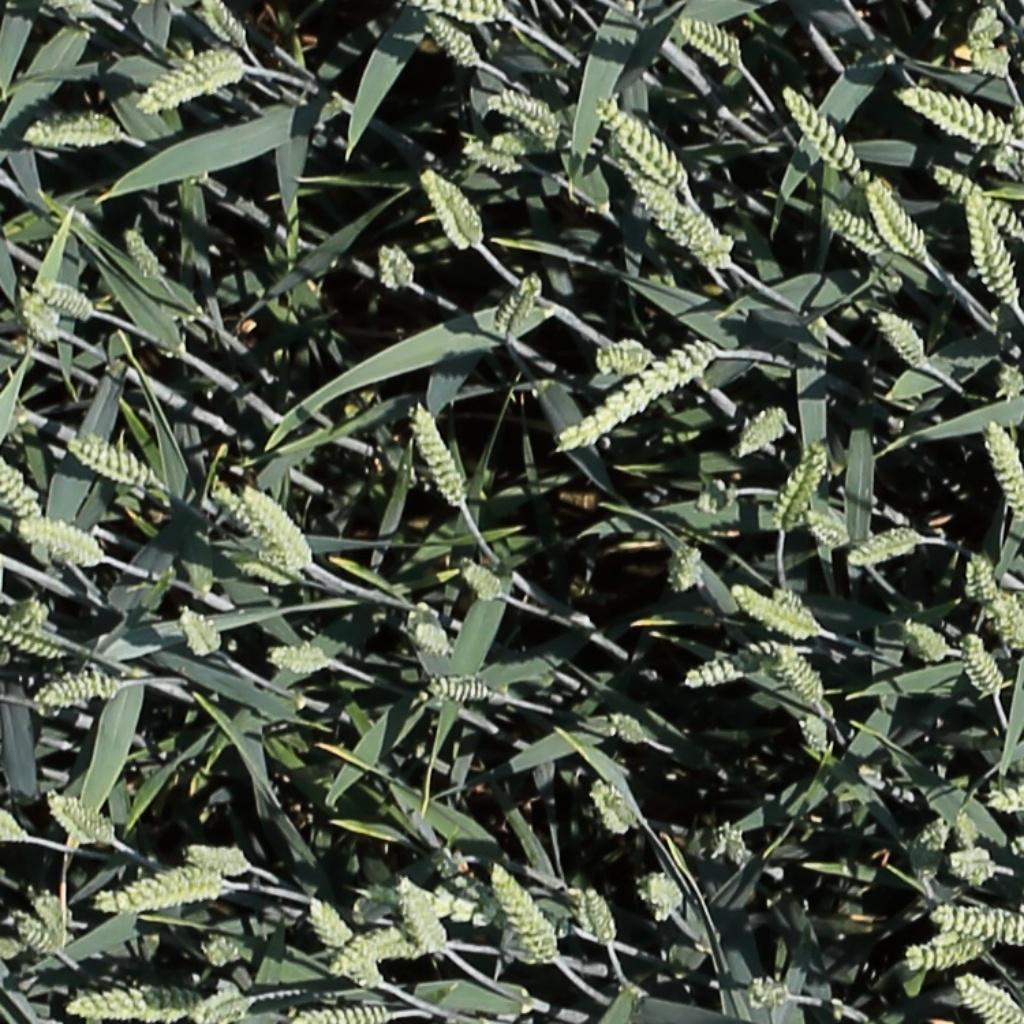0-0: (559, 340, 734, 466), (633, 183, 756, 279), (779, 81, 882, 189), (595, 94, 692, 189), (891, 77, 1016, 150), (488, 860, 562, 965), (95, 856, 231, 913), (408, 398, 472, 512), (931, 162, 1024, 238), (419, 163, 494, 257), (139, 50, 241, 118), (241, 480, 316, 570), (64, 971, 189, 1024), (210, 481, 288, 563), (669, 634, 775, 693), (864, 173, 933, 263), (965, 192, 1017, 309), (775, 432, 832, 536), (19, 514, 109, 573), (22, 109, 120, 160), (39, 782, 115, 847), (66, 435, 157, 487), (731, 585, 820, 638), (394, 872, 450, 955), (983, 415, 1024, 528), (926, 902, 1020, 950), (424, 2, 489, 70), (732, 404, 794, 472), (771, 640, 830, 711), (896, 930, 989, 975), (31, 665, 121, 711), (492, 266, 546, 342), (418, 667, 498, 717), (697, 812, 758, 877), (876, 304, 935, 371), (667, 19, 743, 70), (735, 962, 803, 1018), (324, 932, 401, 980), (958, 629, 1007, 704), (0, 446, 45, 525), (454, 131, 528, 178), (346, 870, 401, 932), (951, 974, 1021, 1022), (680, 463, 742, 517), (588, 779, 640, 842), (405, 0, 514, 30), (938, 837, 1002, 888), (491, 90, 559, 137), (193, 921, 247, 980), (180, 833, 254, 876), (118, 219, 166, 285), (304, 892, 354, 955), (0, 613, 65, 659), (174, 602, 223, 663), (972, 768, 1023, 826), (15, 283, 62, 345), (399, 612, 455, 664), (574, 880, 615, 950), (265, 637, 336, 677), (827, 206, 887, 253), (193, 1, 246, 54), (784, 705, 835, 760), (293, 995, 389, 1024), (958, 2, 1013, 51), (850, 531, 925, 566), (592, 335, 656, 376), (3, 909, 56, 957), (991, 588, 1024, 662), (641, 866, 684, 921), (28, 878, 70, 934), (902, 618, 954, 663), (914, 805, 952, 864), (379, 236, 416, 296), (458, 558, 506, 604), (36, 278, 94, 316), (950, 799, 992, 851), (0, 793, 37, 851), (983, 349, 1022, 404), (670, 539, 704, 599), (961, 41, 1016, 78), (193, 988, 252, 1022), (966, 547, 996, 611), (237, 558, 301, 585), (806, 510, 853, 546), (608, 712, 651, 746)
